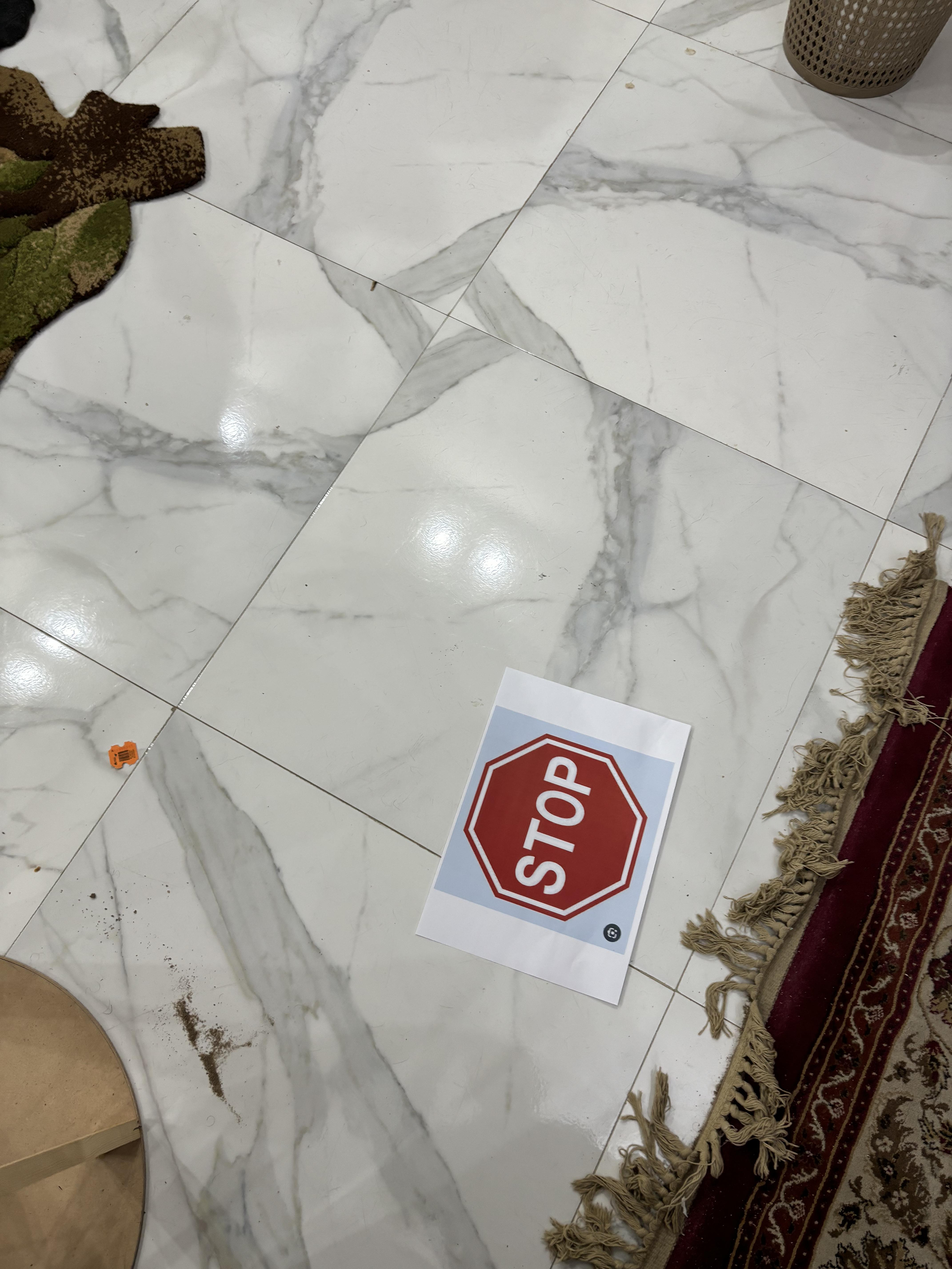Stop: (459, 736, 652, 927)
